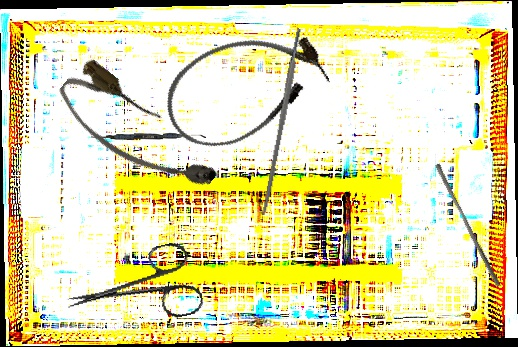Cannula: (151, 12, 339, 164), (49, 54, 225, 213)
Iris Scissors: (59, 238, 206, 342)
Pusher: (430, 162, 506, 288)
Scalpel Handle: (259, 27, 305, 217)
Spatula Surgical: (90, 130, 207, 143)
